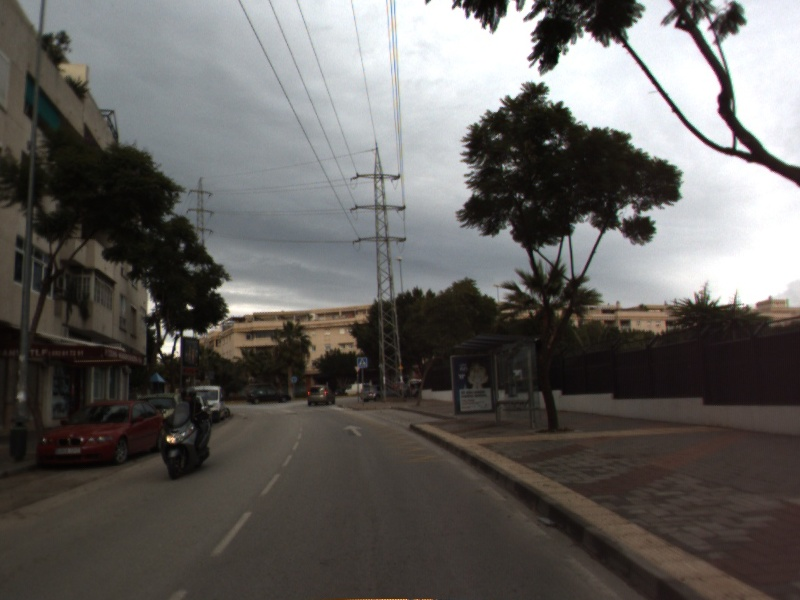STRAIGHT: (341, 422, 366, 438)
